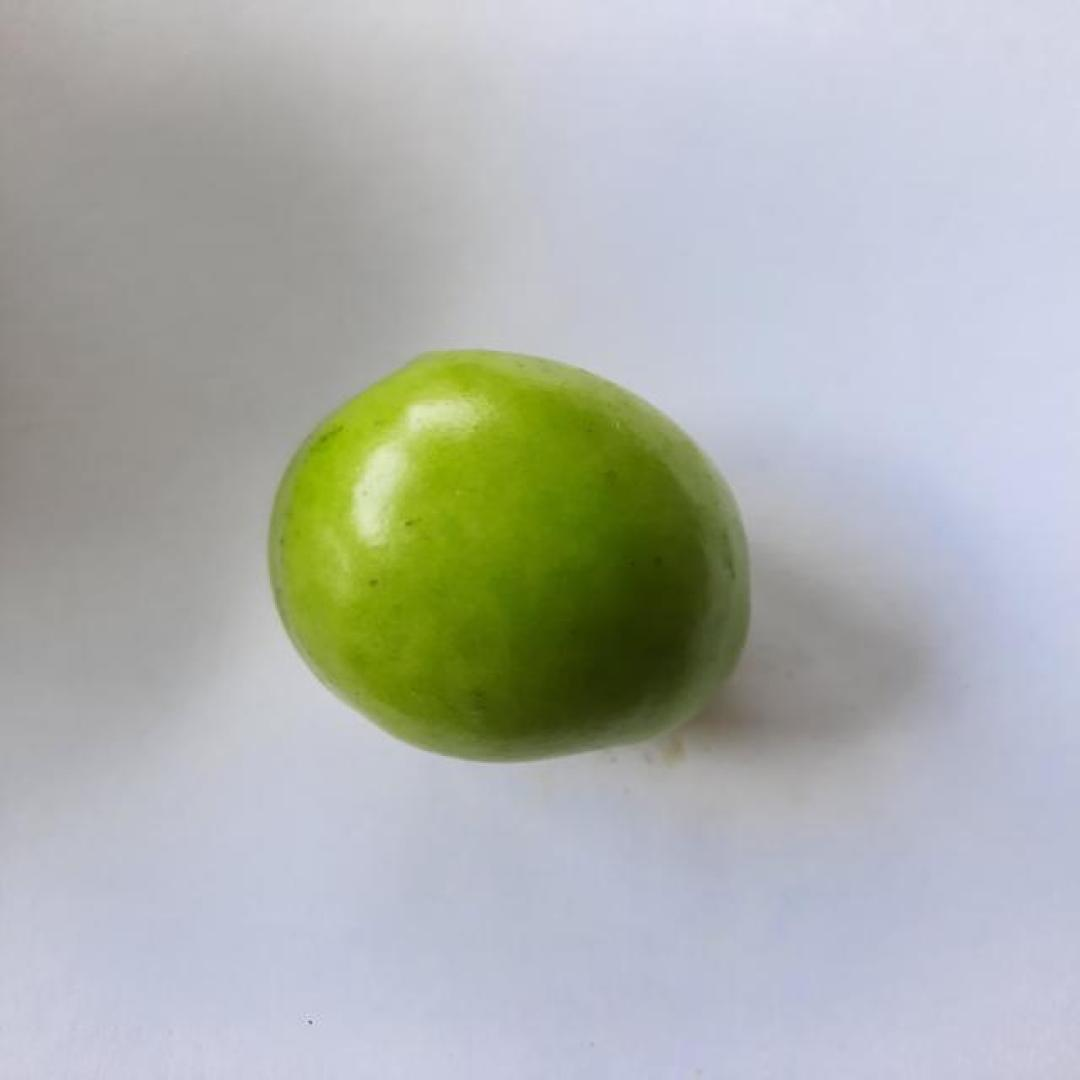mentah: (263, 344, 756, 770)
